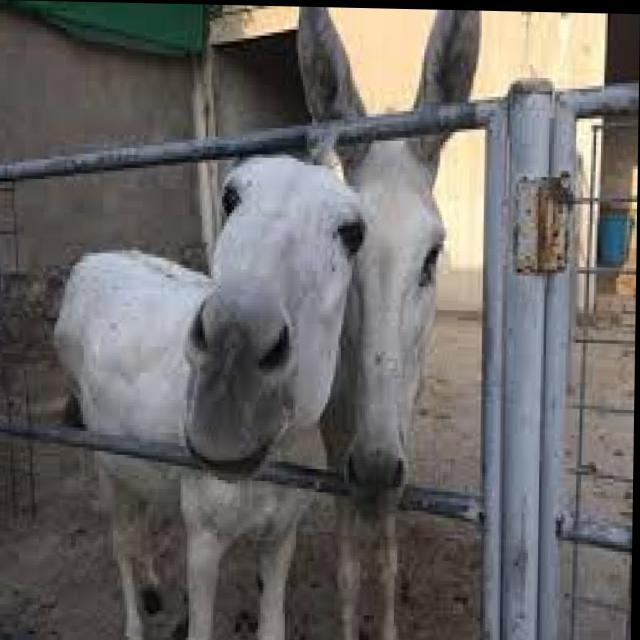Donkey: (54, 140, 368, 640), (290, 5, 479, 640)
